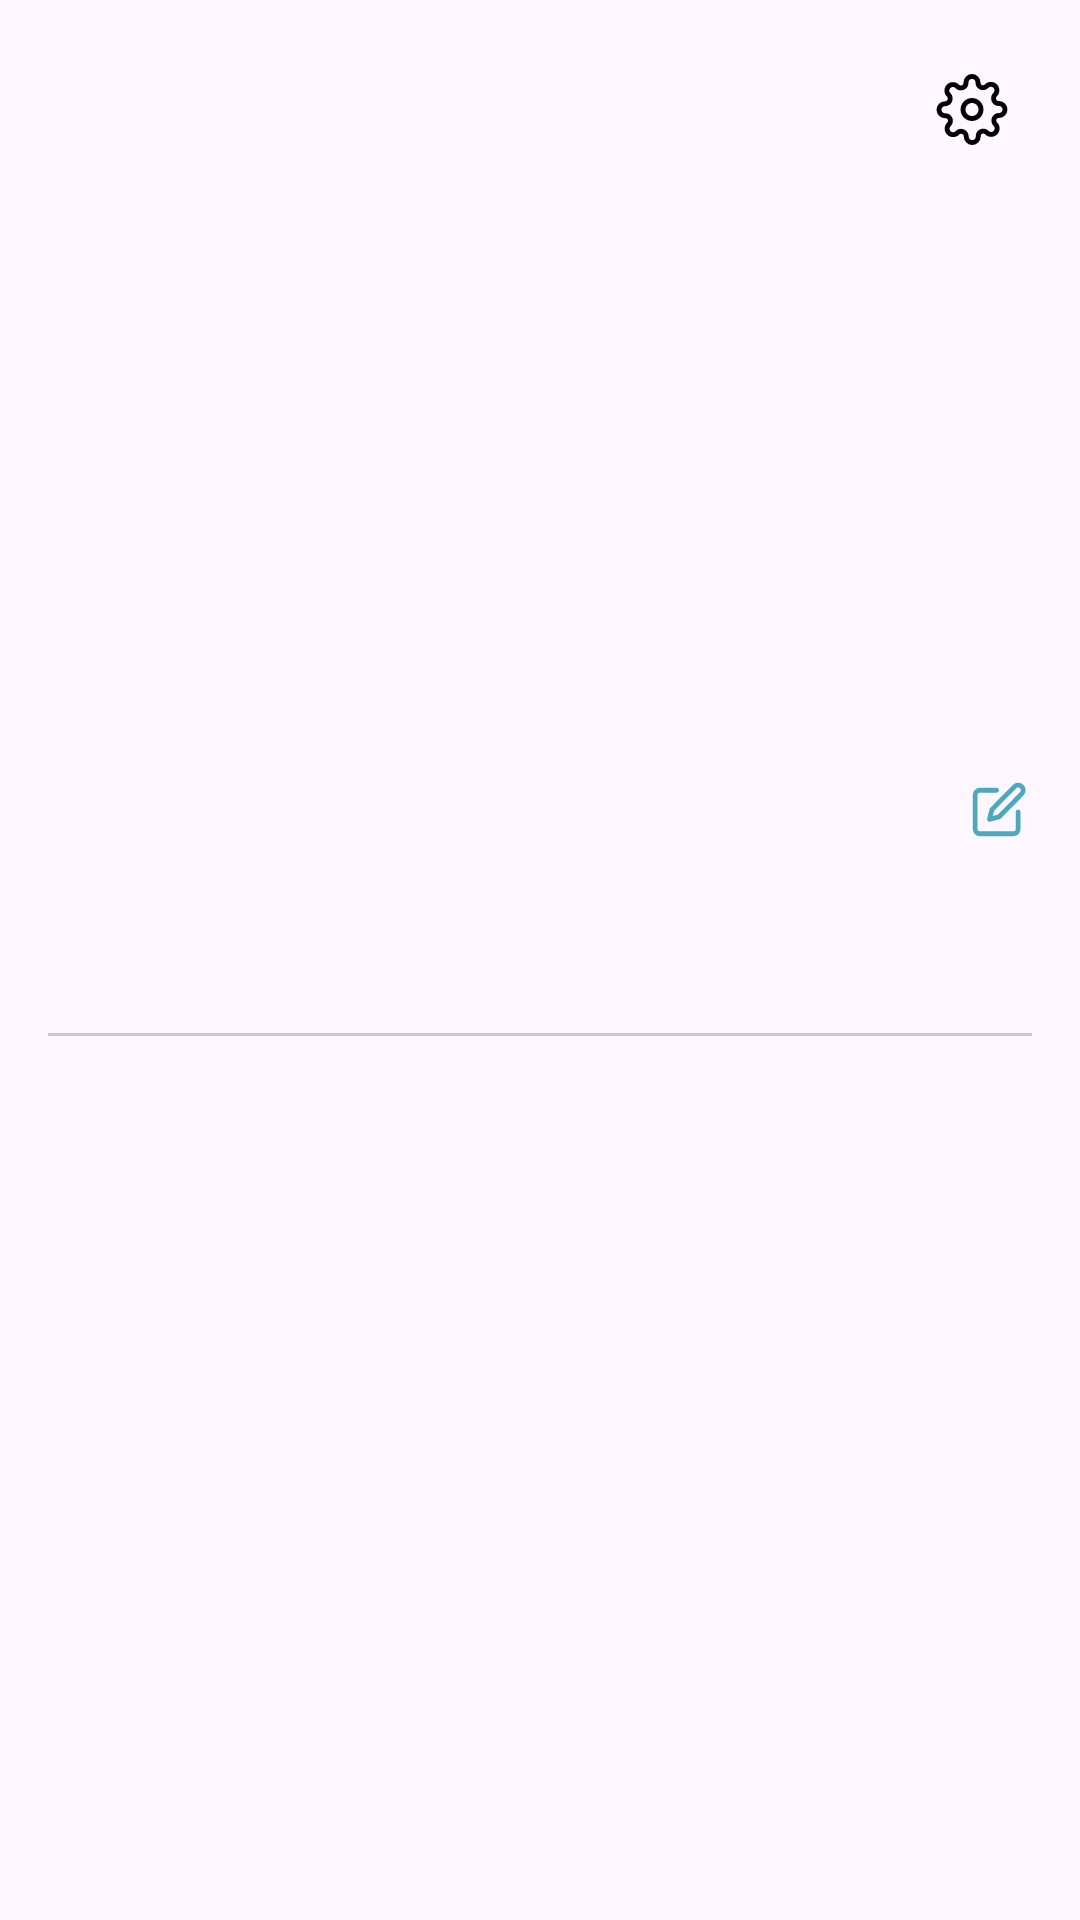

Icons on this 1080px x 1920px Android screen, each with its box as [x1, y1, x2, y2]:
edit profile: [972, 782, 1026, 837]
settings: [936, 74, 1008, 145]
